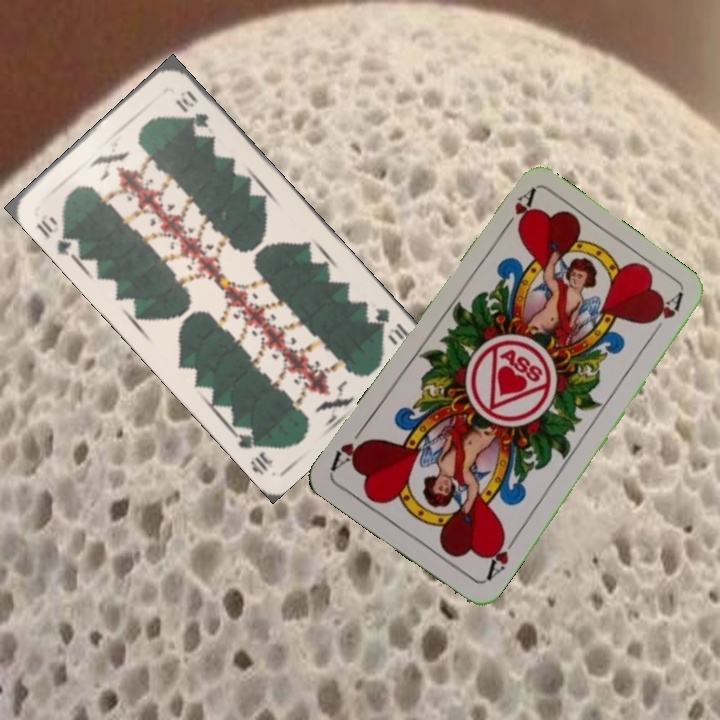G10: (32, 212, 83, 260), (370, 304, 413, 348)
HA: (496, 185, 538, 237), (482, 529, 520, 584)
